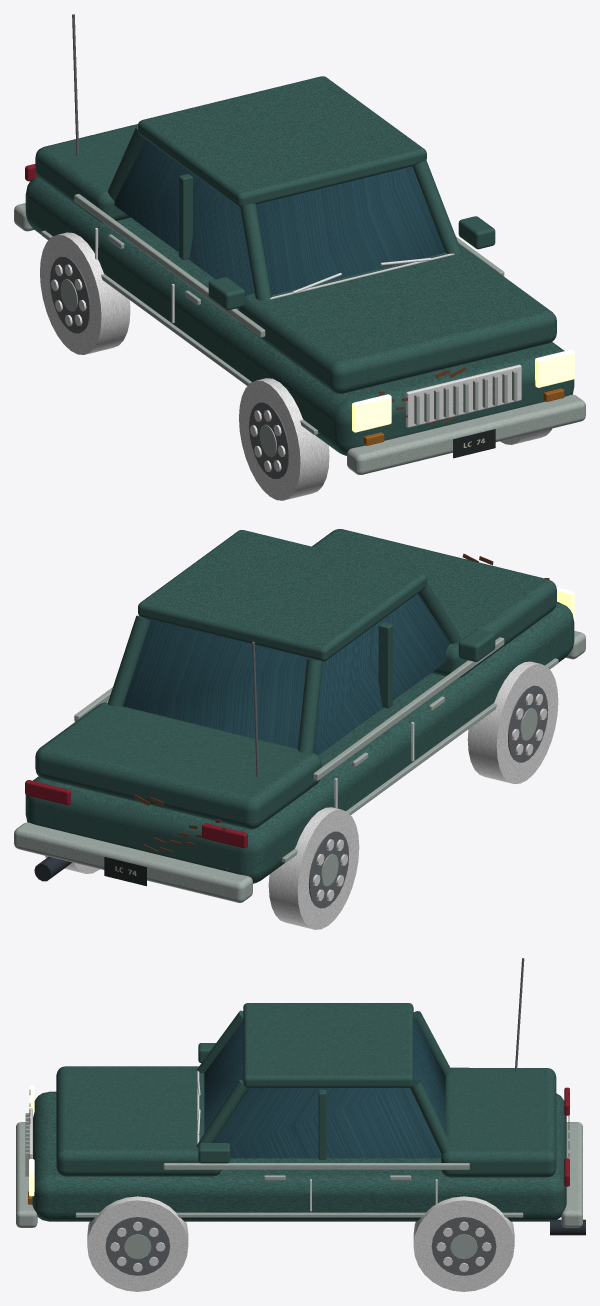
Rendered from sedan.glb.
3 views of the same model, one above another, from view 1: azimuth 30°, elevation 25°; view 2: azimuth 150°, elevation 25°; view 3: azimuth 270°, elevation 25° (orthographic). The views are drawn at different scales.
Visible parts, largest first — view 1: bonnet, sloped-window-cabin, crime-sedan, roof, body-shell, front-bumper, boot-lid, grille, headlight (×2), window-chrome, wing-mirror (×2), side-trim (+1 smaller); view 2: body-shell, sloped-window-cabin, roof, crime-sedan, boot-lid, bonnet, rear-bumper, window-chrome, taillight (×2), side-trim, door-pillar, wing-mirror; view 3: body-shell, crime-sedan, sloped-window-cabin, bonnet, roof, boot-lid, window-chrome, rear-bumper, side-trim, front-bumper, wing-mirror, door-pillar.
Boxes of the visible parts, x1,y1,x2,y2 form: bonnet: [238, 245, 556, 393]; sloped-window-cabin: [114, 139, 445, 295]; crime-sedan: [40, 14, 551, 500]; roof: [138, 76, 426, 207]; body-shell: [25, 176, 574, 455]; front-bumper: [347, 394, 585, 474]; boot-lid: [35, 124, 137, 223]; grille: [406, 364, 521, 427]; headlight (×2): [352, 349, 574, 432]; window-chrome: [74, 194, 265, 337]; wing-mirror (×2): [208, 216, 495, 310]; side-trim: [41, 230, 318, 434]; body-shell: [25, 602, 574, 883]; sloped-window-cabin: [123, 594, 450, 755]; roof: [138, 530, 426, 661]; crime-sedan: [34, 553, 558, 929]; boot-lid: [35, 702, 321, 829]; bonnet: [312, 529, 556, 677]; rear-bumper: [14, 822, 252, 902]; window-chrome: [313, 637, 504, 780]; taillight (×2): [25, 780, 247, 848]; side-trim: [281, 658, 558, 862]; door-pillar: [378, 622, 392, 708]; wing-mirror: [458, 629, 495, 661]; body-shell: [32, 1091, 566, 1221]; crime-sedan: [25, 958, 585, 1291]; sloped-window-cabin: [204, 1017, 445, 1158]; bonnet: [56, 1066, 221, 1176]; roof: [243, 1003, 413, 1087]; boot-lid: [441, 1068, 556, 1177]; window-chrome: [163, 1163, 469, 1169]; rear-bumper: [561, 1122, 582, 1227]; side-trim: [75, 1212, 523, 1217]; front-bumper: [16, 1122, 37, 1227]; wing-mirror: [198, 1143, 230, 1163]; door-pillar: [318, 1089, 326, 1159].
Size of the model in its own units: 1.77 by 1.88 by 3.96.
Materials: 13 (12 with a texture image).
